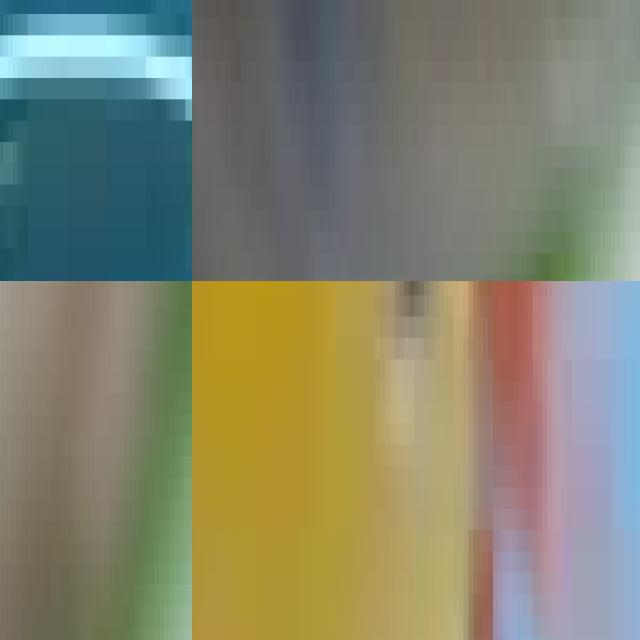fish: (192, 0, 640, 281), (0, 0, 192, 281)
